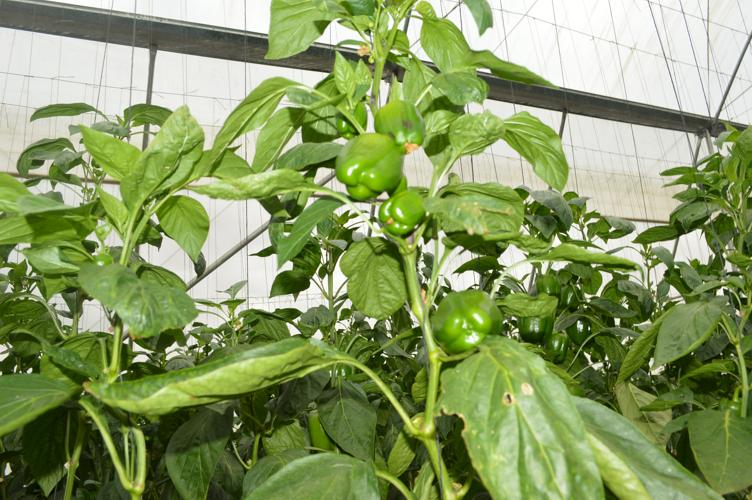BellPepper: (426, 276, 501, 362), (325, 128, 405, 201), (371, 186, 429, 256), (370, 98, 431, 145)
